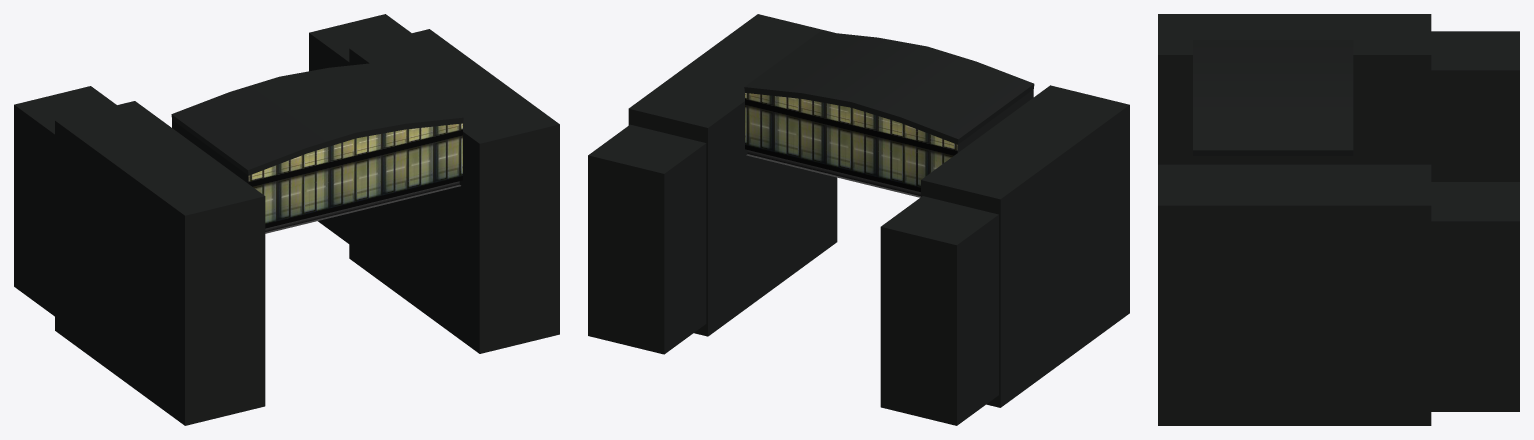
File: AMB_HYO_ST.glb
3 renders of one model, left to right at view 1: azimuth 30°, elevation 25°; view 2: azimuth 150°, elevation 25°; view 3: azimuth 270°, elevation 25°, orthographic. The views are drawn at different scales.
Visible parts, largest first — view 1: BASE; view 2: BASE; view 3: BASE.
Boxes of the visible parts, <box> form: BASE: <box>14,14,559,425</box>; BASE: <box>588,14,1129,425</box>; BASE: <box>1158,14,1519,425</box>.
Size of the model in its own units: 138 by 82.69 by 110.
4 materials, 4 textured.
